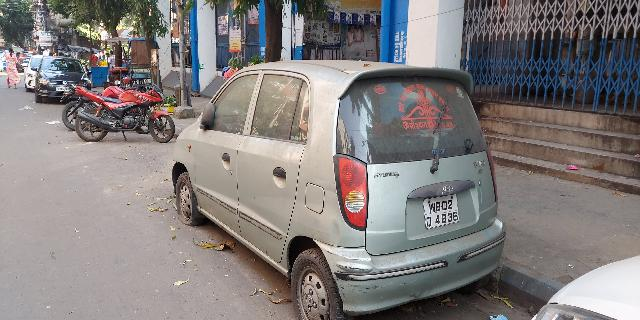Car: (168, 62, 508, 320), (33, 53, 91, 102)
Motorbike: (62, 81, 176, 147)
